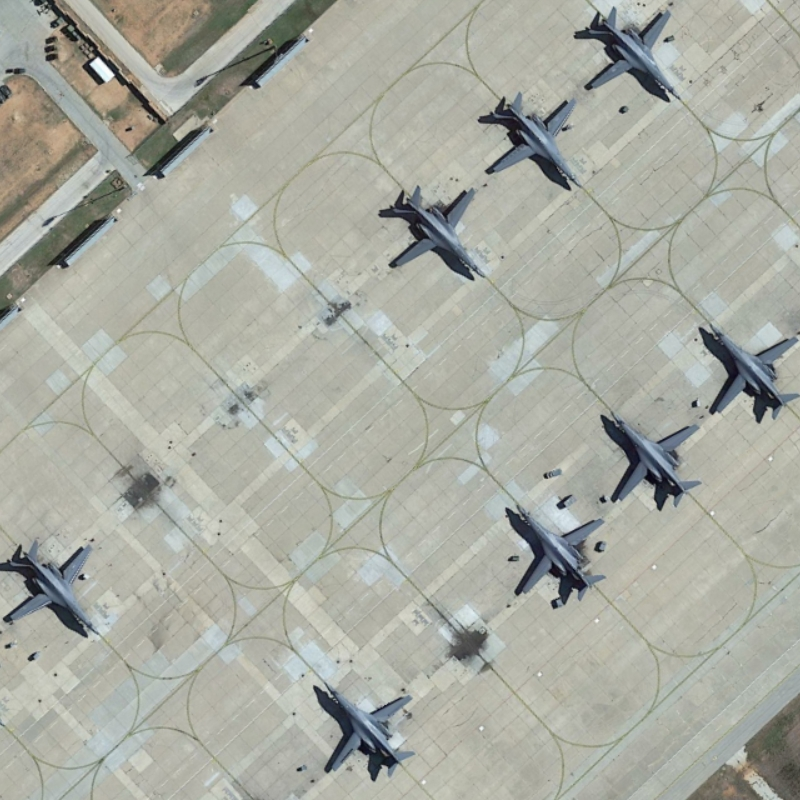A10: (589, 397, 706, 518), (687, 305, 800, 429), (497, 491, 615, 606), (377, 171, 490, 289), (482, 81, 588, 206), (306, 668, 421, 782), (572, 4, 693, 111), (1, 537, 113, 643)
